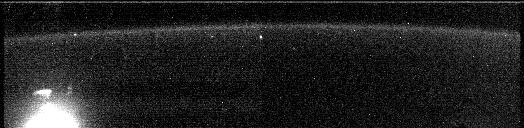positive: (30, 87, 53, 101)
